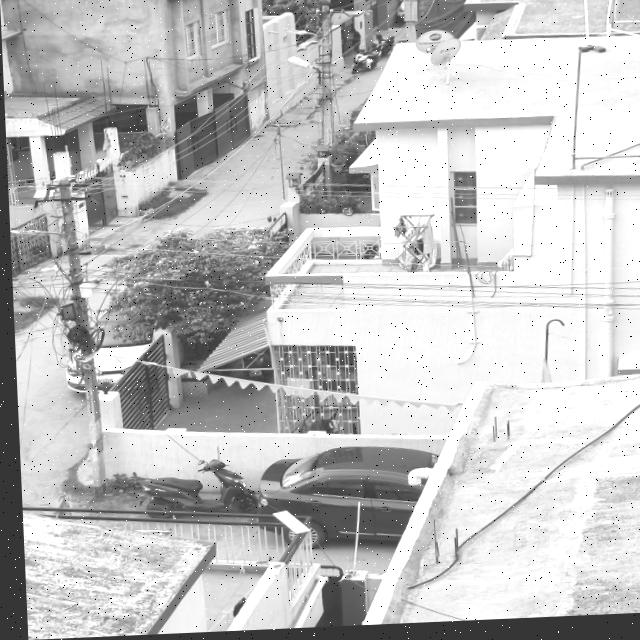bike: (125, 454, 254, 522), (349, 49, 381, 82)
car: (248, 441, 443, 552), (56, 313, 160, 399)
